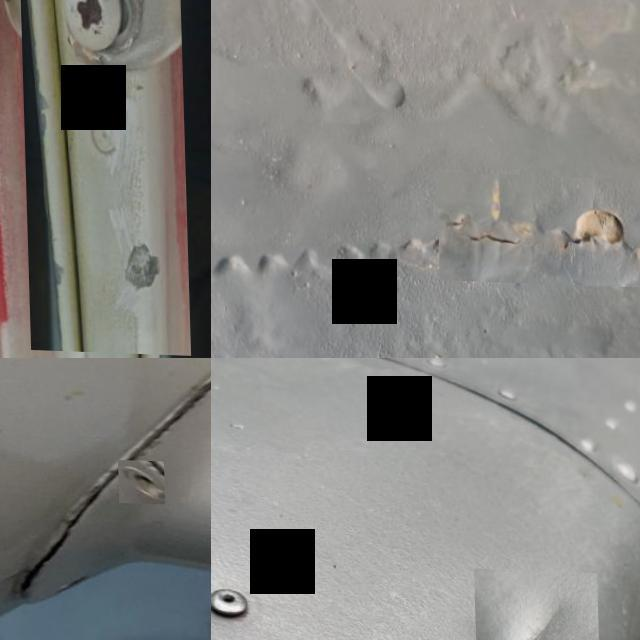Crack: (18, 0, 188, 353), (435, 170, 640, 284), (0, 461, 111, 599), (102, 358, 211, 443)
Dent: (472, 565, 598, 640)
Missing_Fastener: (116, 457, 162, 501)
